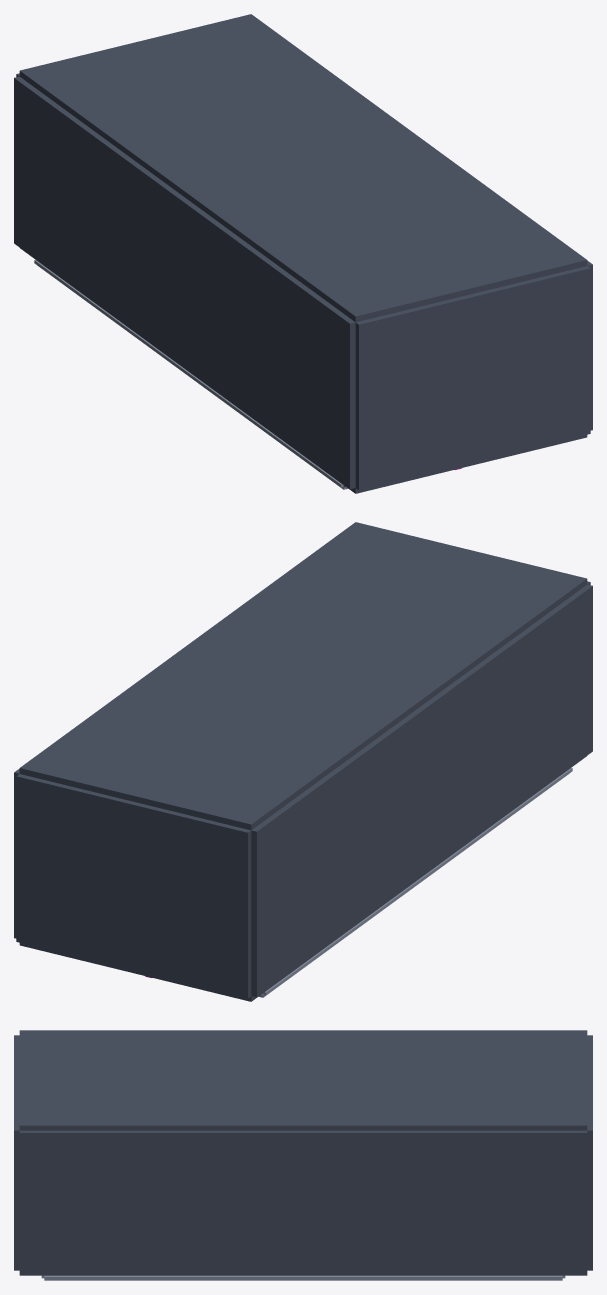
Rendered from shooter-locker.glb.
The picture shows the model from 3 angles, top to bottom: view 1: azimuth 30°, elevation 25°; view 2: azimuth 150°, elevation 25°; view 3: azimuth 270°, elevation 25°; orthographic projection. The views are drawn at different scales.
Visible parts, largest first — view 1: Model Mesh; view 2: Model Mesh; view 3: Model Mesh.
Part boxes in pixels (x1,y1,x2,y2): Model Mesh: [14, 14, 592, 493]; Model Mesh: [14, 522, 592, 1001]; Model Mesh: [14, 1030, 592, 1280].
Size of the model in its own units: 0.86 by 0.655 by 2.1.
Materials: 2 (2 with a texture image).
